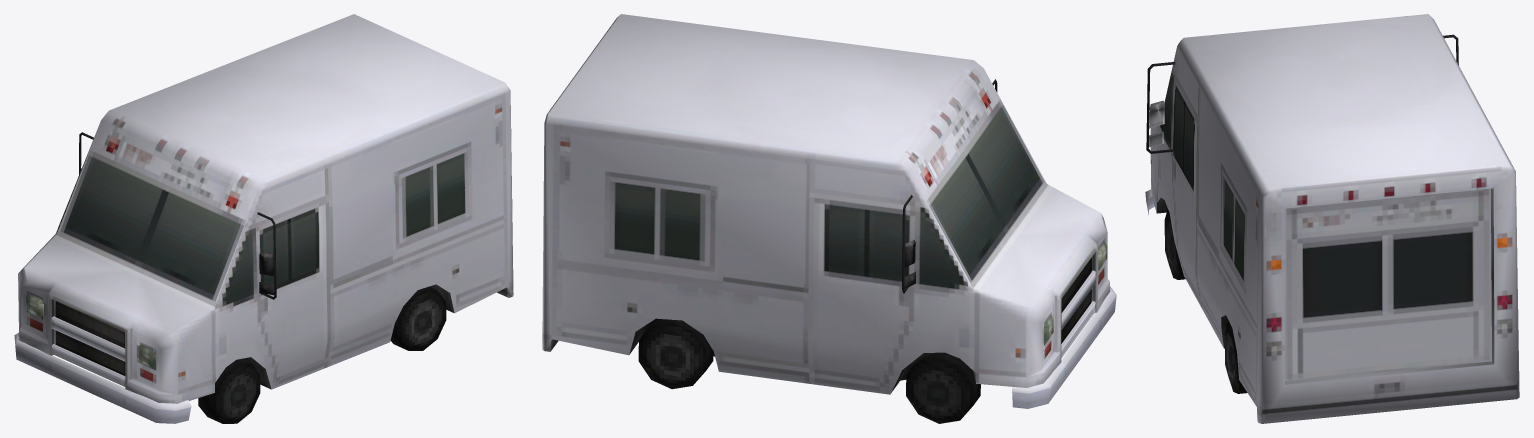
File: truck_psx__low_poly.glb
3 renders of one model, left to right at view 1: azimuth 30°, elevation 25°; view 2: azimuth 150°, elevation 25°; view 3: azimuth 270°, elevation 25°, orthographic. The views are drawn at different scales.
Parts seen in each view (by area): view 1: IceCream_Truck, IceCream_Truck_Wheel_Front_L, IceCream_Truck_Wheel_Rear_L; view 2: IceCream_Truck, IceCream_Truck_Wheel_Front_R, IceCream_Truck_Wheel_Rear_R; view 3: IceCream_Truck, IceCream_Truck_Wheel_Rear_L, IceCream_Truck_Wheel_Front_L.
Part boxes in pixels (x1,y1,x2,y2): IceCream_Truck: (14,14,513,423); IceCream_Truck_Wheel_Front_L: (198,360,260,423); IceCream_Truck_Wheel_Rear_L: (390,286,446,350); IceCream_Truck: (542,14,1116,408); IceCream_Truck_Wheel_Front_R: (906,352,980,423); IceCream_Truck_Wheel_Rear_R: (638,318,713,389); IceCream_Truck: (1145,14,1519,423); IceCream_Truck_Wheel_Rear_L: (1224,322,1247,393); IceCream_Truck_Wheel_Front_L: (1164,209,1185,279).
Size of the model in its own units: 0.0579 by 0.0291 by 0.0382.
2 materials, 2 textured.
